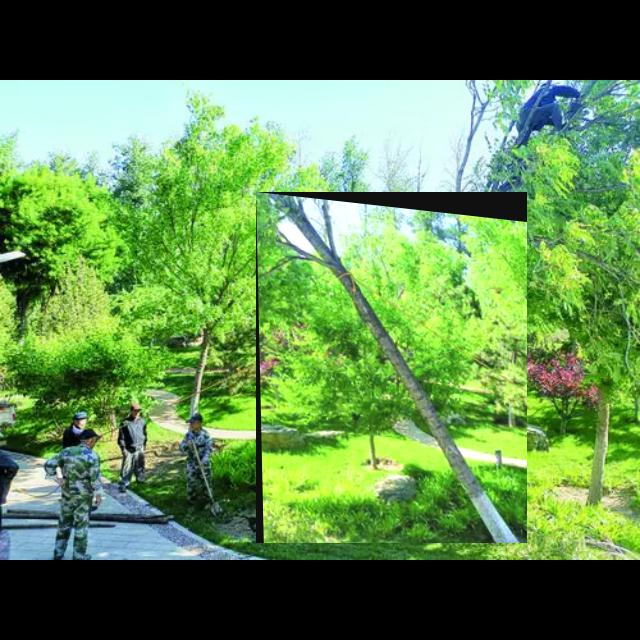Fallen Tree: (256, 192, 528, 544)
